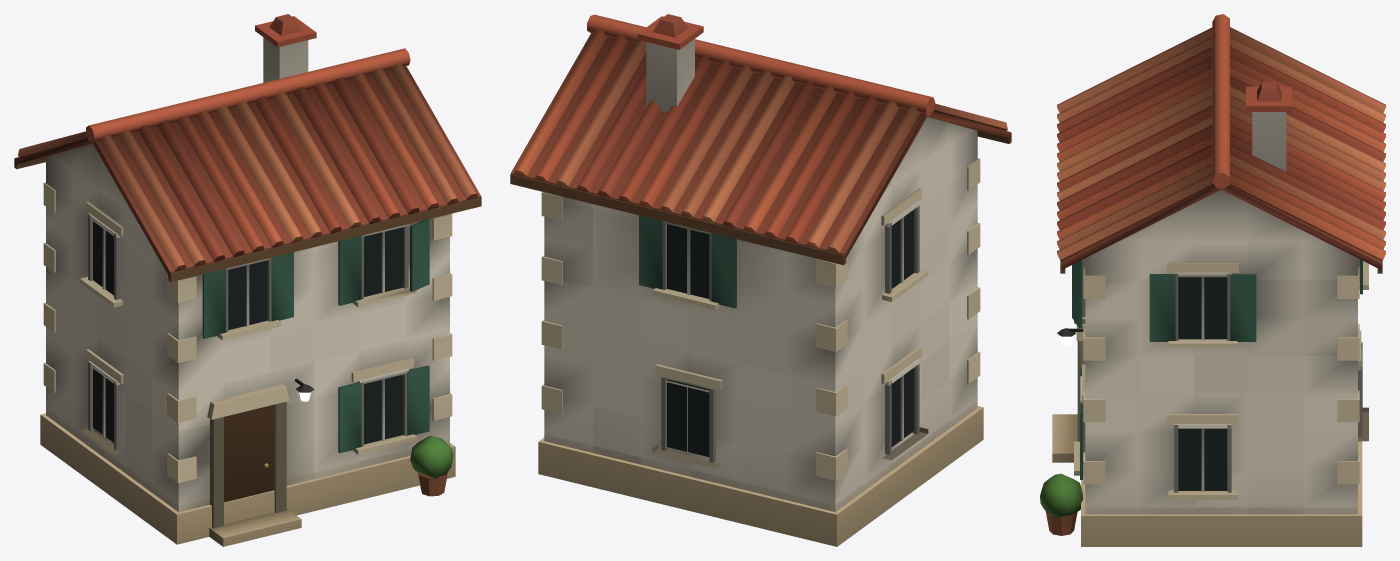
The model's file is townhouse_a.glb.
3 views of the same model, side by side, from view 1: azimuth 30°, elevation 25°; view 2: azimuth 150°, elevation 25°; view 3: azimuth 270°, elevation 25° (orthographic). The views are drawn at different scales.
Parts seen in each view (by area): view 1: townhouse_a_mesh; view 2: townhouse_a_mesh; view 3: townhouse_a_mesh.
Part boxes in pixels (x1,y1,x2,y2): townhouse_a_mesh: [14, 14, 481, 546]; townhouse_a_mesh: [510, 14, 1011, 546]; townhouse_a_mesh: [1040, 14, 1385, 546].
Size of the model in its own units: 6.06 by 7.52 by 5.58.
